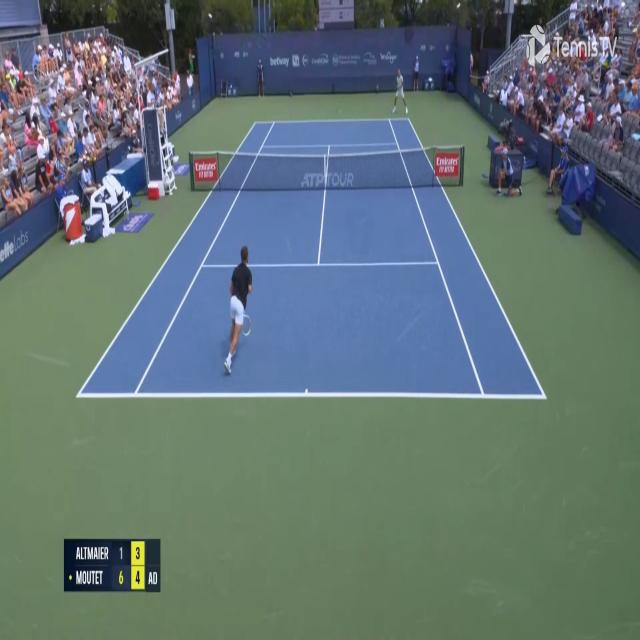tennis-player: (221, 241, 253, 378), (390, 64, 410, 119)
